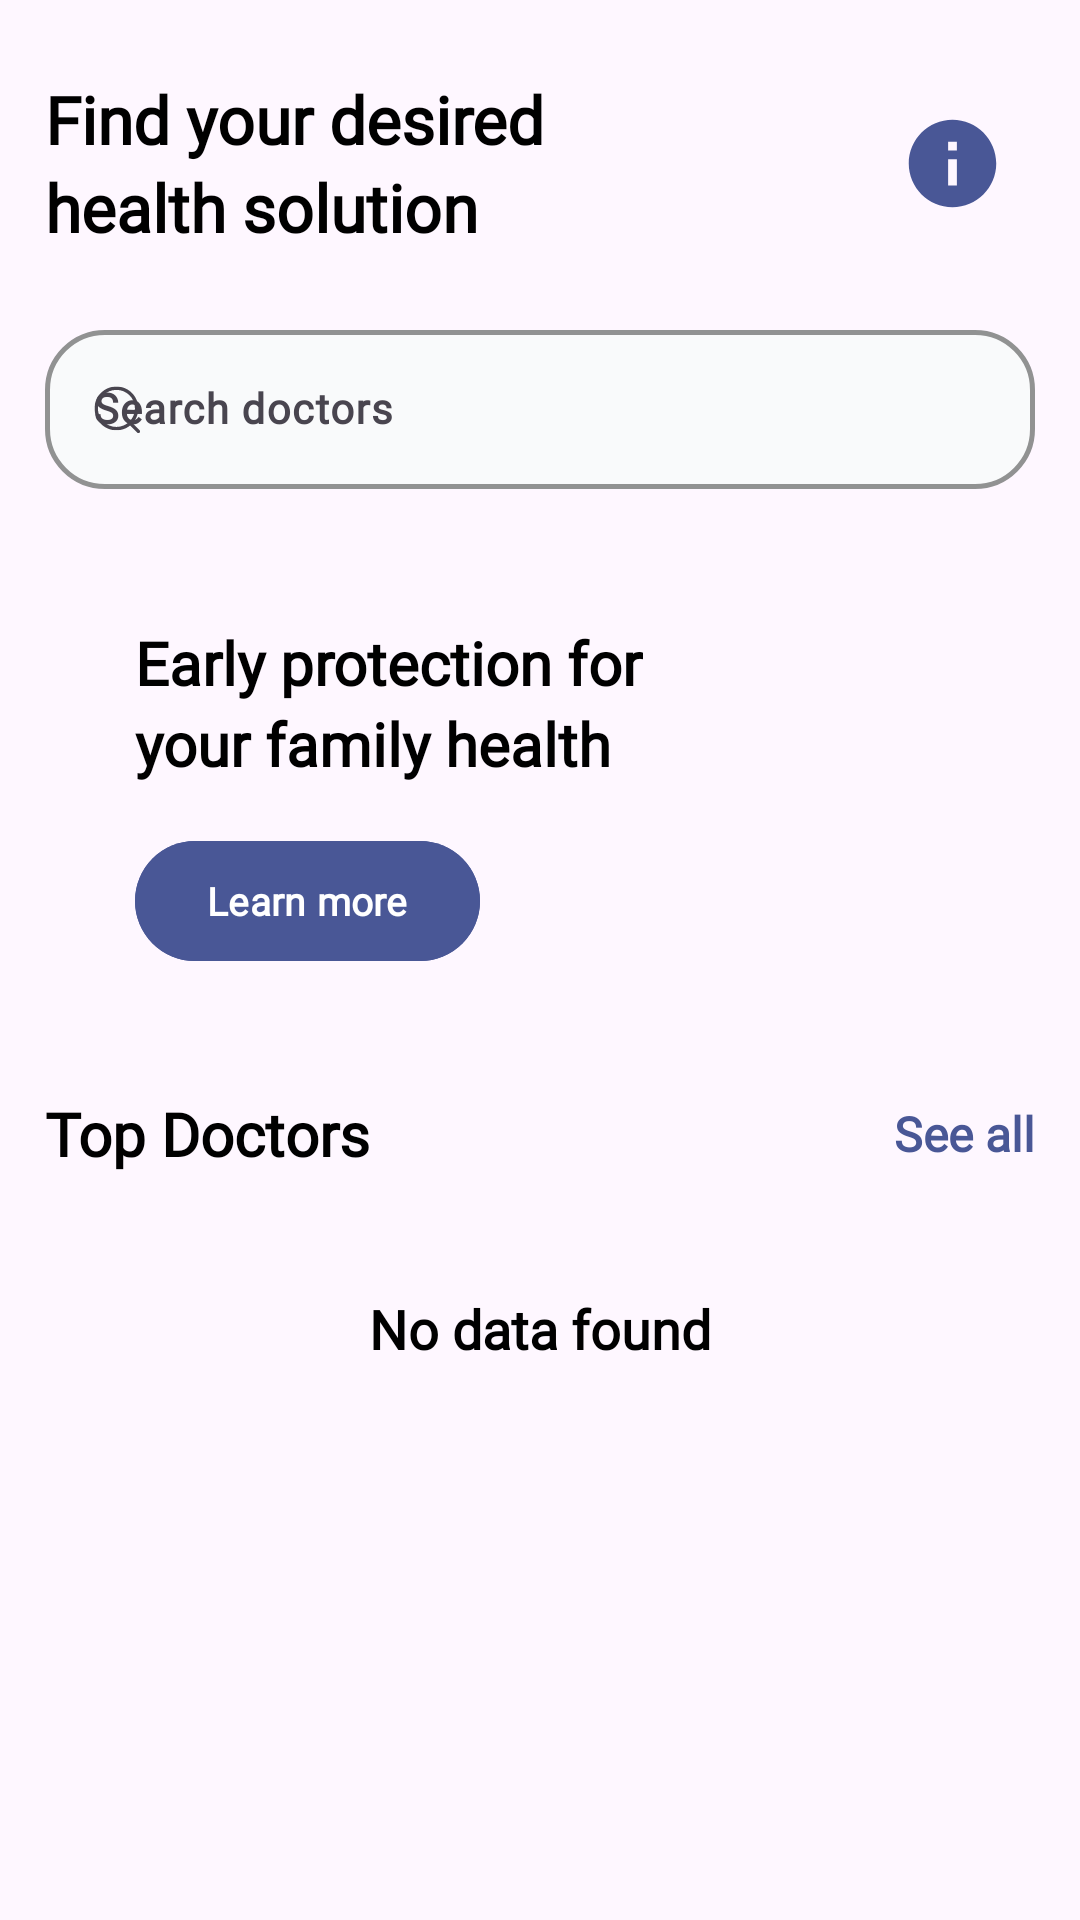

Where to tap for icons on this 1080 x 1920 app screen, as (x=x, y=y):
info: (x=952, y=163)
